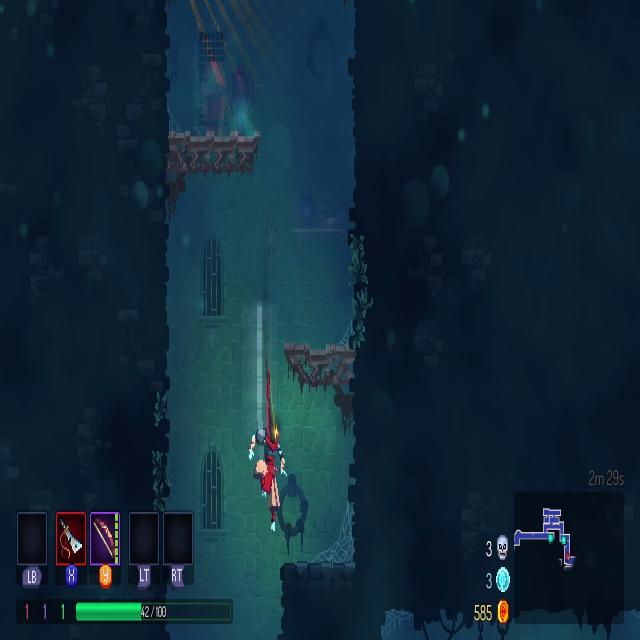agents: (249, 426, 287, 523)
